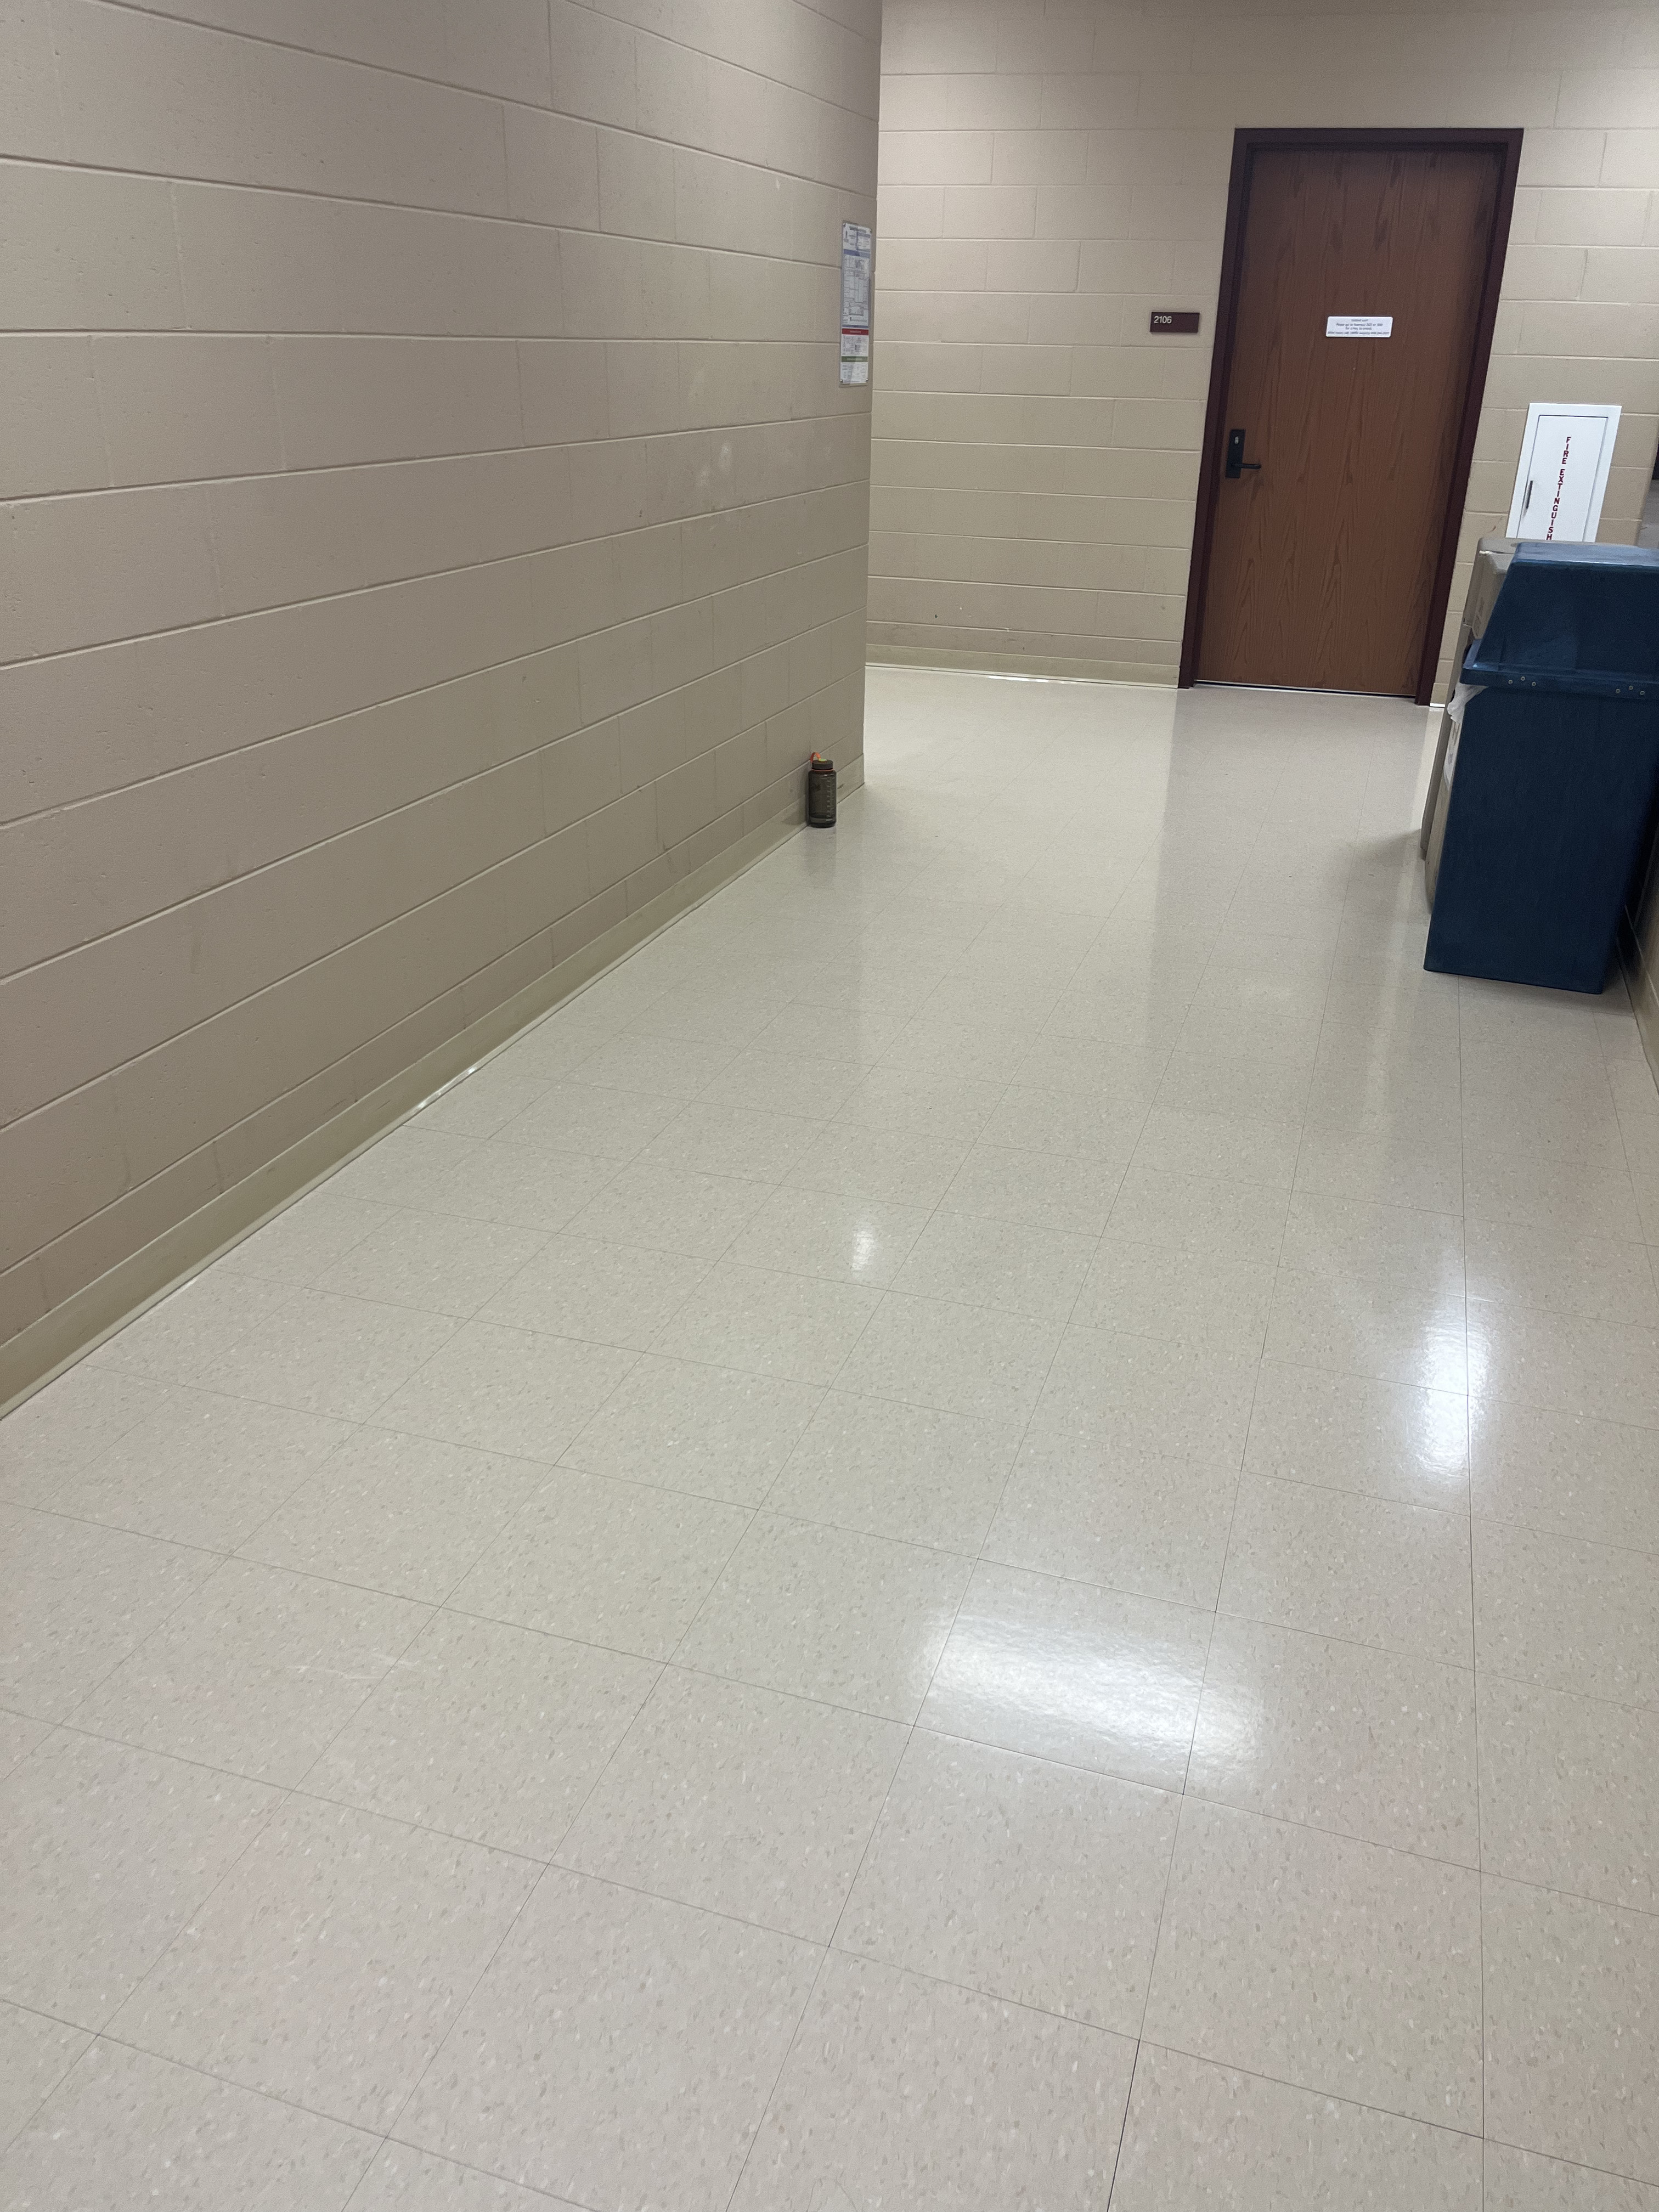bottle: (803, 742, 840, 834)
